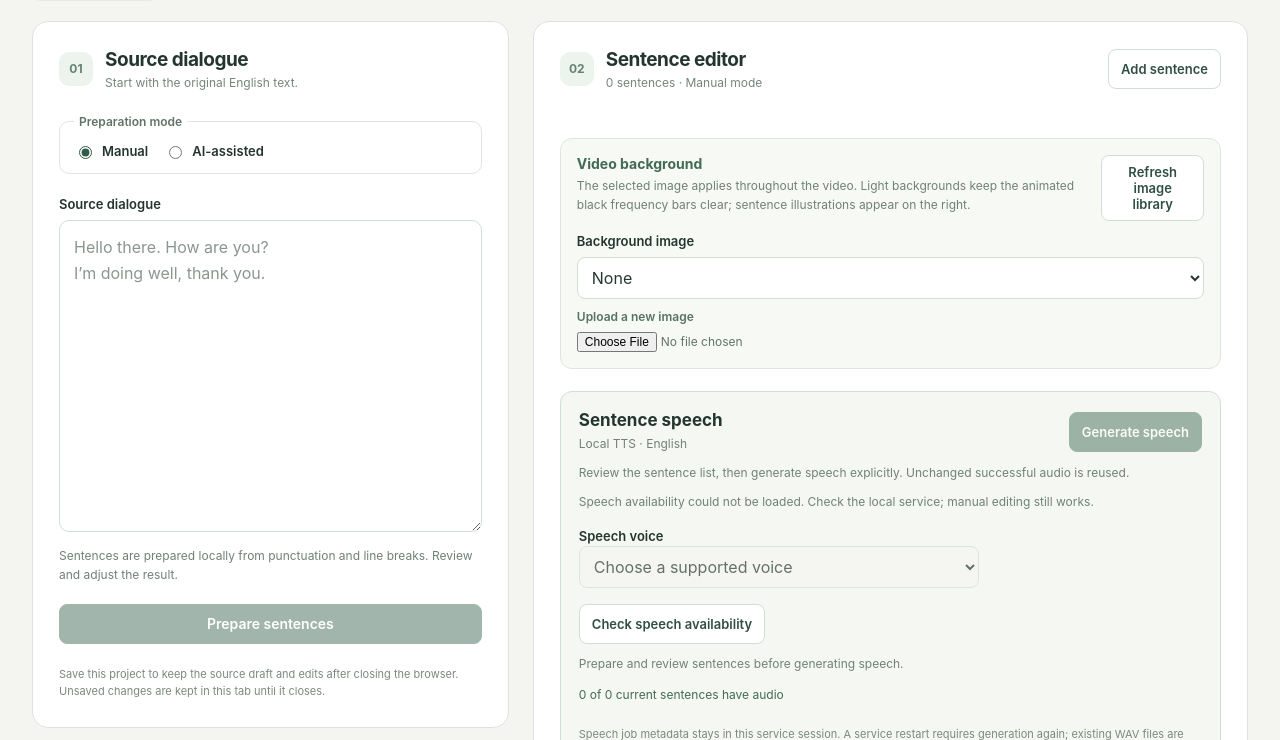
Test: manual sentence editor › allows cancelling replacement with Escape
(page scrolled)
Type "Keep this." into the text box labelled "Source dialogue" at point(270, 376), box [59,220,482,532]
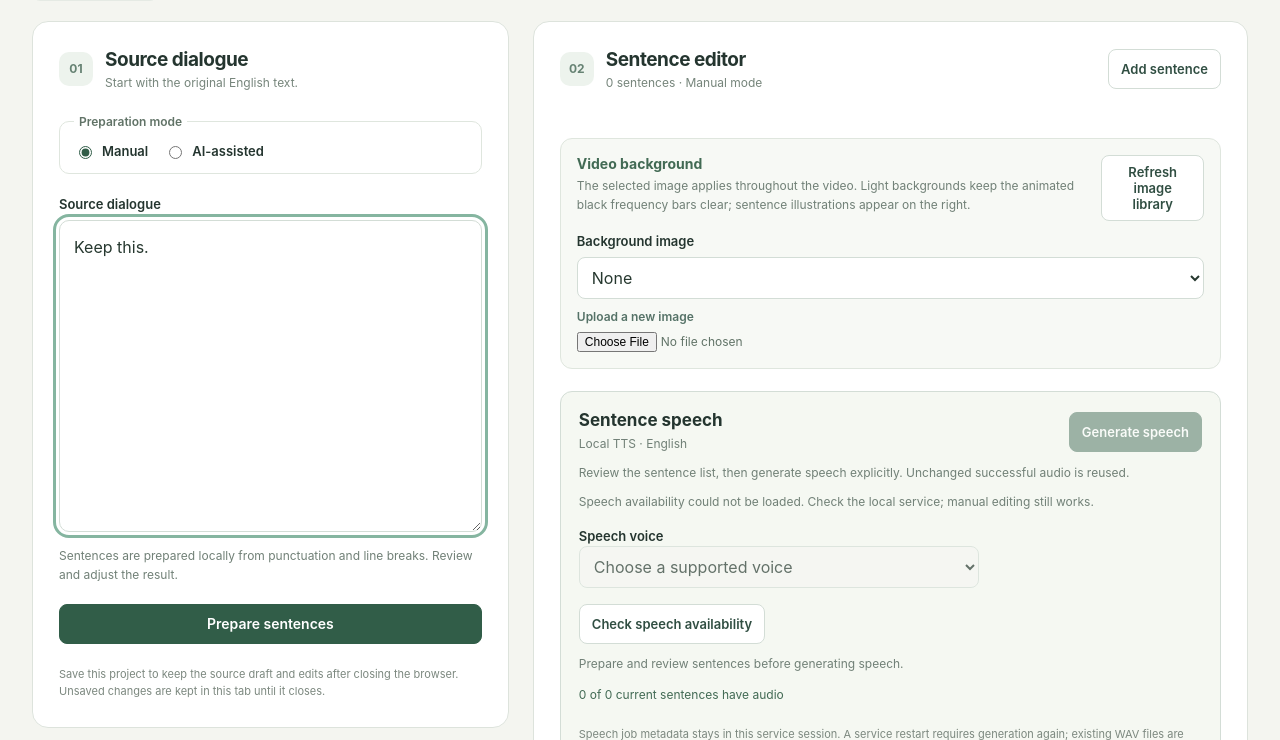
Click the button "Prepare sentences" at point(270, 624), box [59,604,482,644]
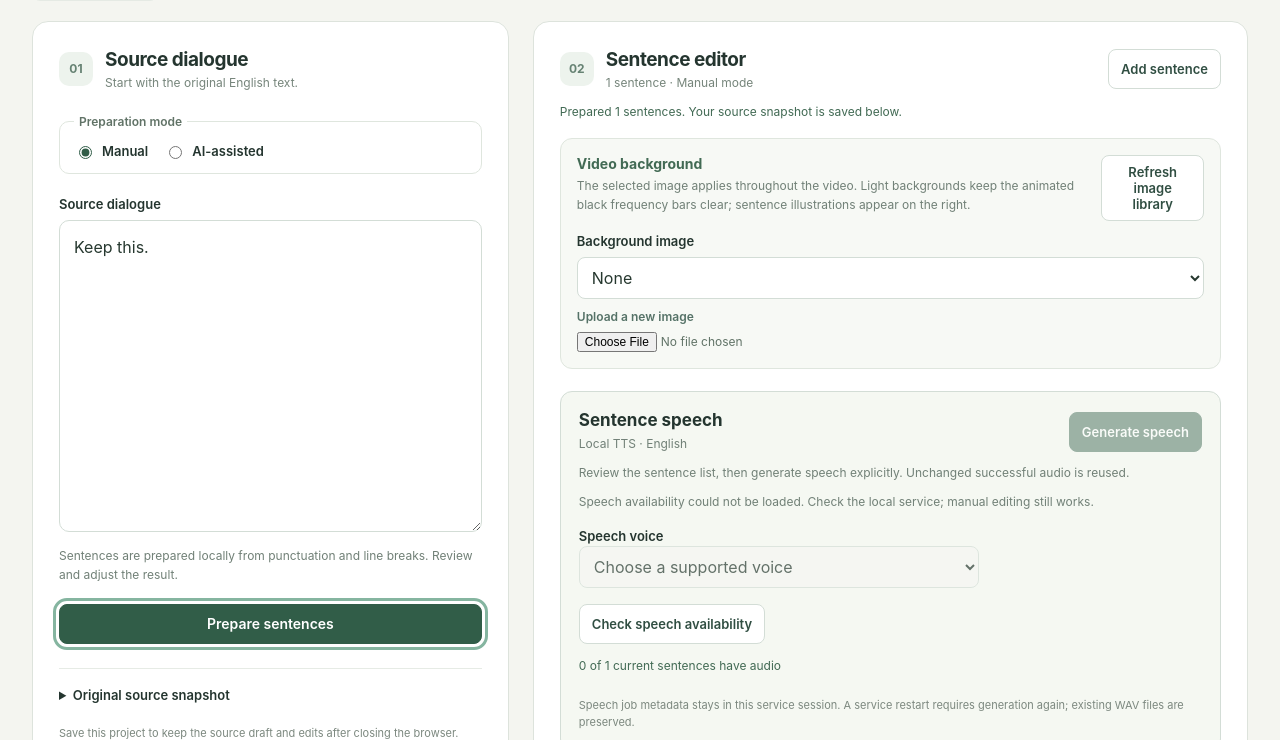
Click the button "Prepare sentences" at point(270, 624), box [59,604,482,644]
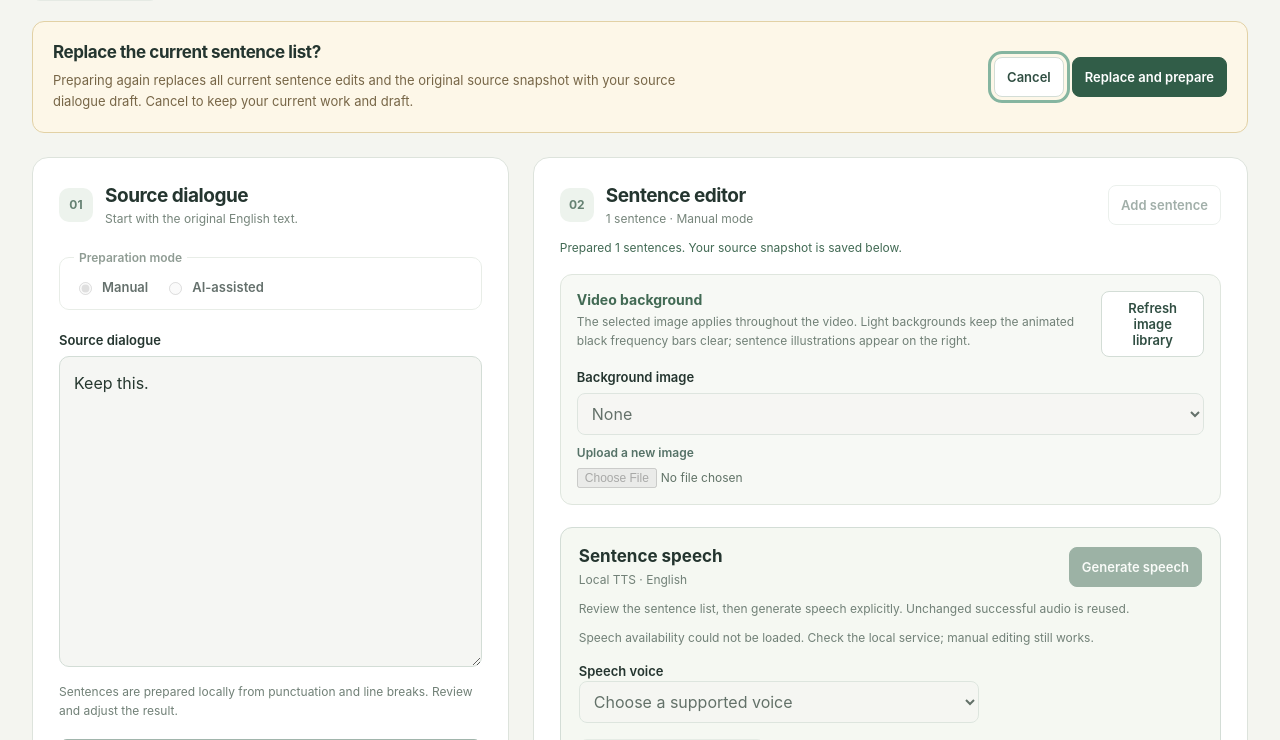
Press Escape
(page scrolled)
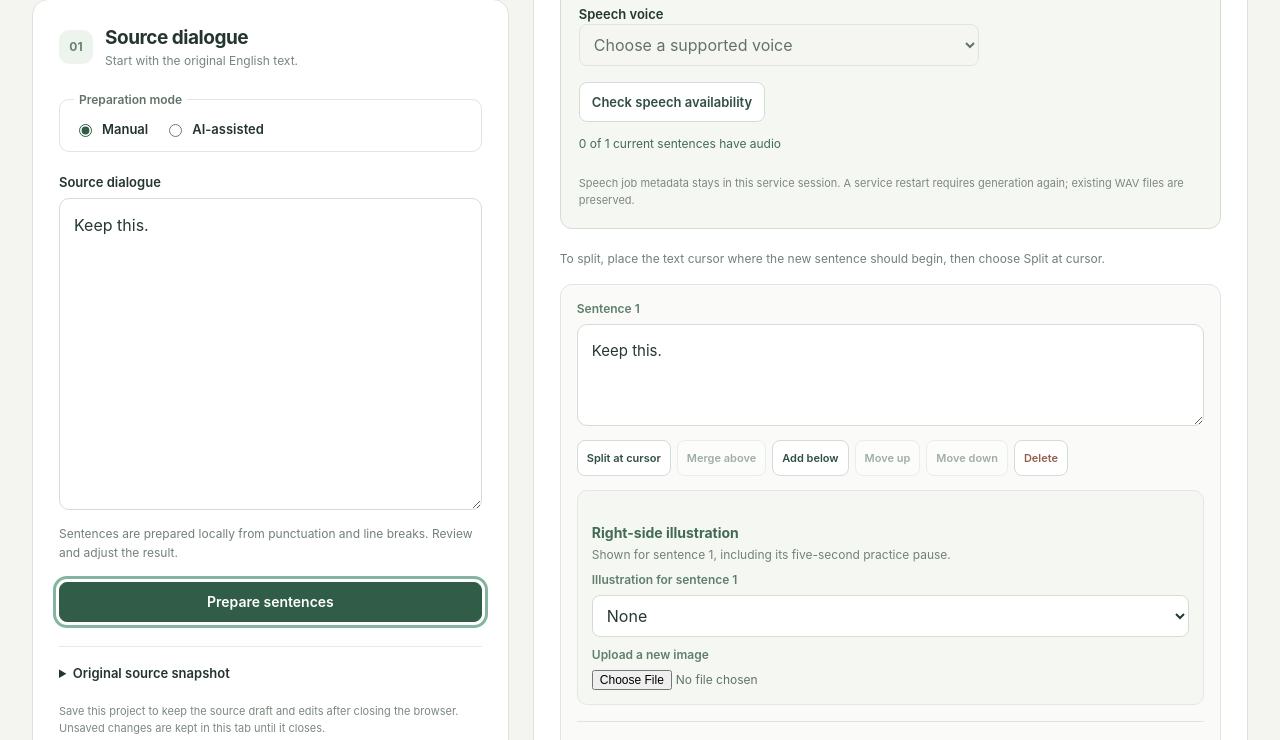
Now the text box labelled "Sentence 1" holds "Keep this.", box [577,324,1204,426]
Now the dialog is gone
